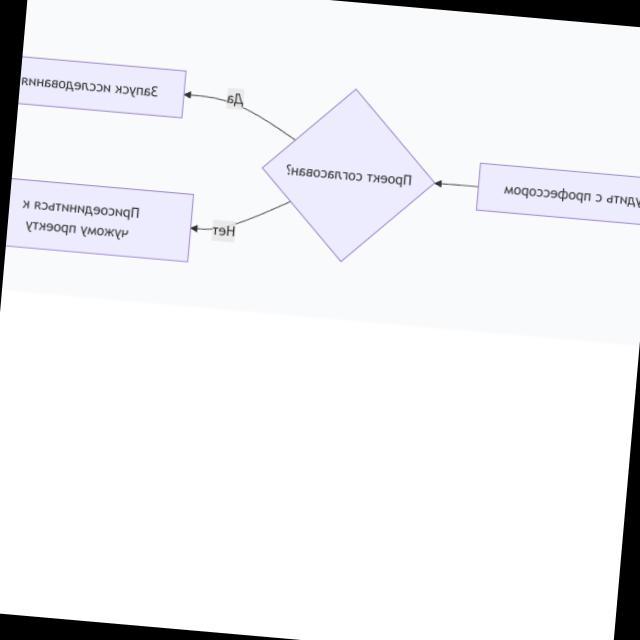arrow: (181, 82, 300, 140), (188, 192, 290, 251), (434, 173, 480, 195)
diamond: (253, 80, 445, 274)
text_region: (212, 219, 238, 240), (225, 88, 245, 107)
